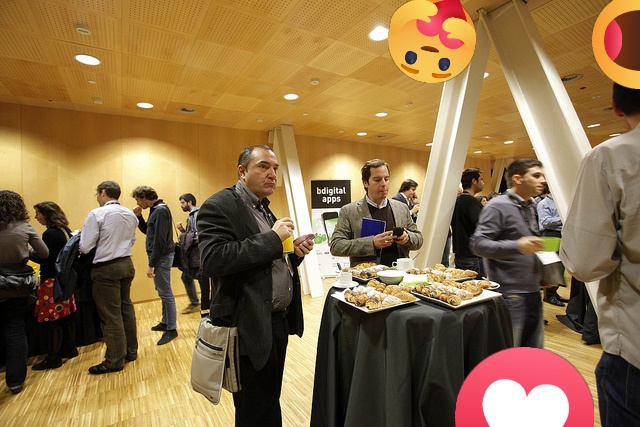care: (388, 0, 476, 83)
haha: (592, 0, 640, 89)
love: (455, 347, 594, 427)
